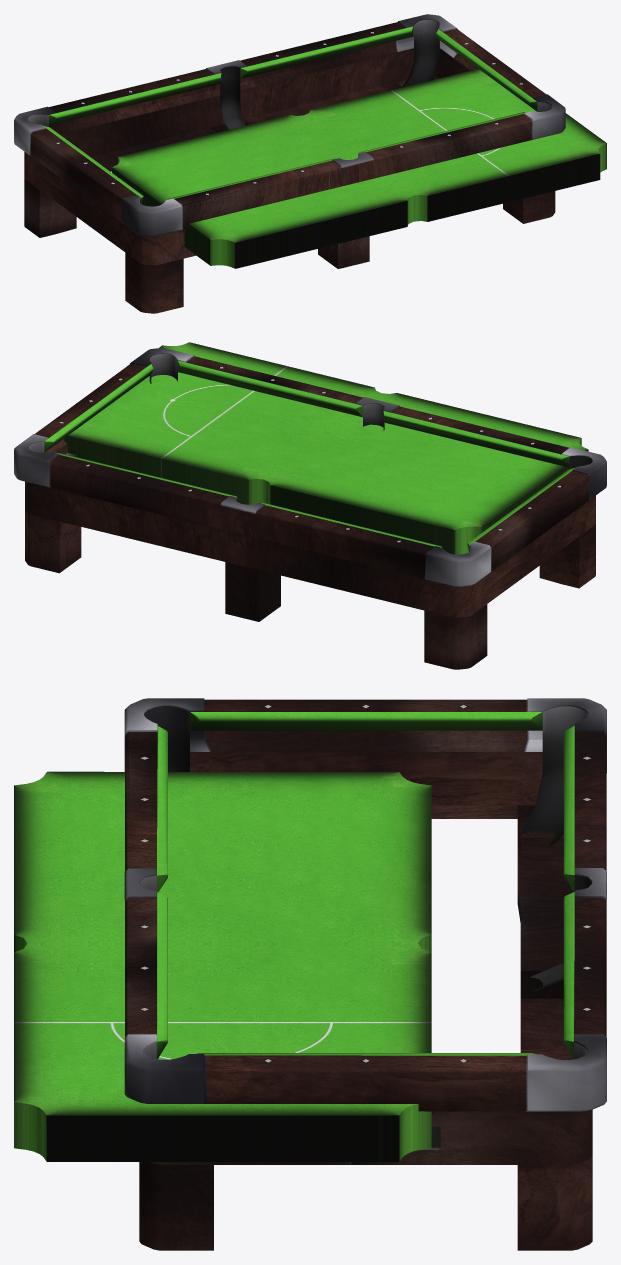
File: table.fbx
3 renders of one model, top to bottom at view 1: azimuth 30°, elevation 25°; view 2: azimuth 150°, elevation 25°; view 3: azimuth 270°, elevation 25°, orthographic. The views are drawn at different scales.
Parts seen in each view (by area): view 1: polymsh, grid, polymsh1; view 2: polymsh, grid, polymsh1; view 3: grid, polymsh, polymsh1.
Boxes of the visible parts, x1=… form: polymsh: x1=14, y1=14, x2=565, y2=313; grid: x1=112, y1=69, x2=606, y2=268; polymsh1: x1=44, y1=26, x2=537, y2=204; polymsh: x1=14, y1=348, x2=606, y2=669; grid: x1=63, y1=342, x2=588, y2=554; polymsh1: x1=44, y1=360, x2=574, y2=551; grid: x1=14, y1=771, x2=431, y2=1161; polymsh: x1=124, y1=698, x2=606, y2=1250; polymsh1: x1=157, y1=712, x2=574, y2=1058.
Bounding box in the file's own units: 10.31 × 2.37 × 6.75.
